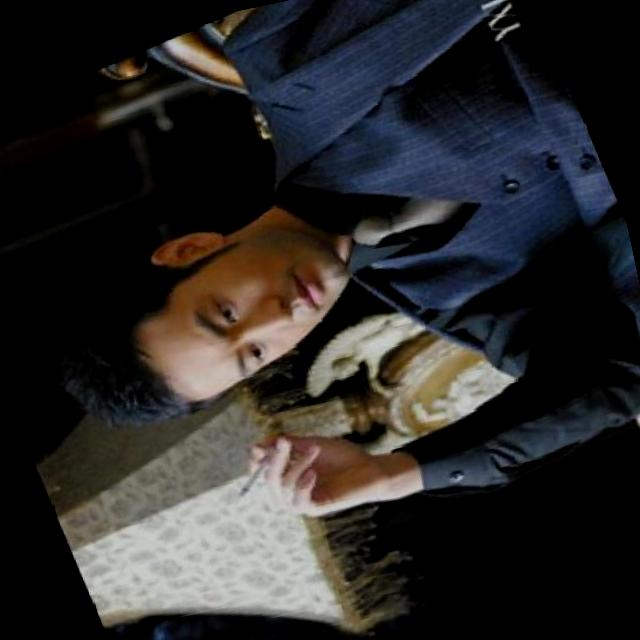cigarette: (222, 404, 428, 539)
